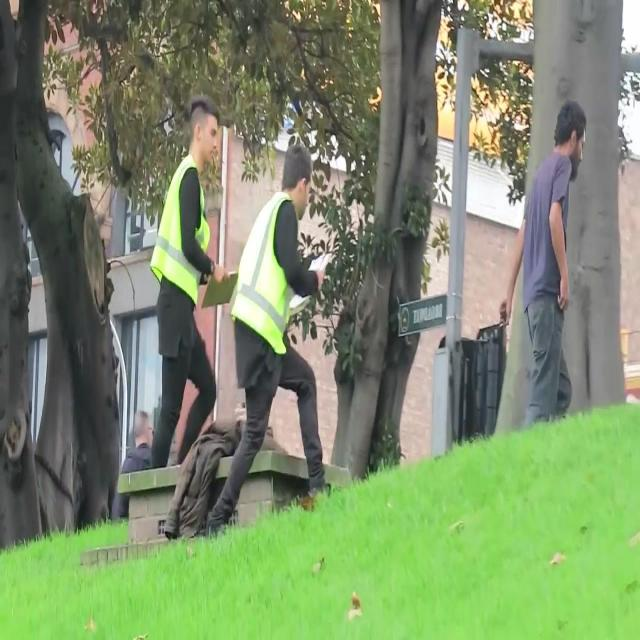Reflective-Jacket: (228, 192, 308, 358), (148, 154, 216, 311)
